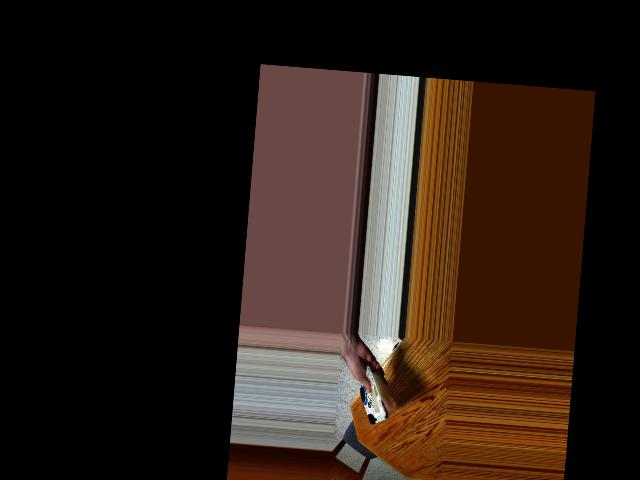cheese: (348, 373, 396, 423)
